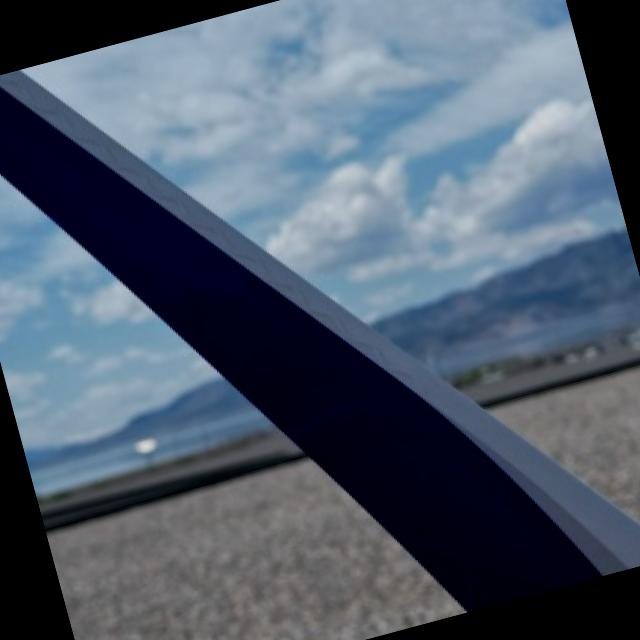healthy: (395, 232, 634, 371)
